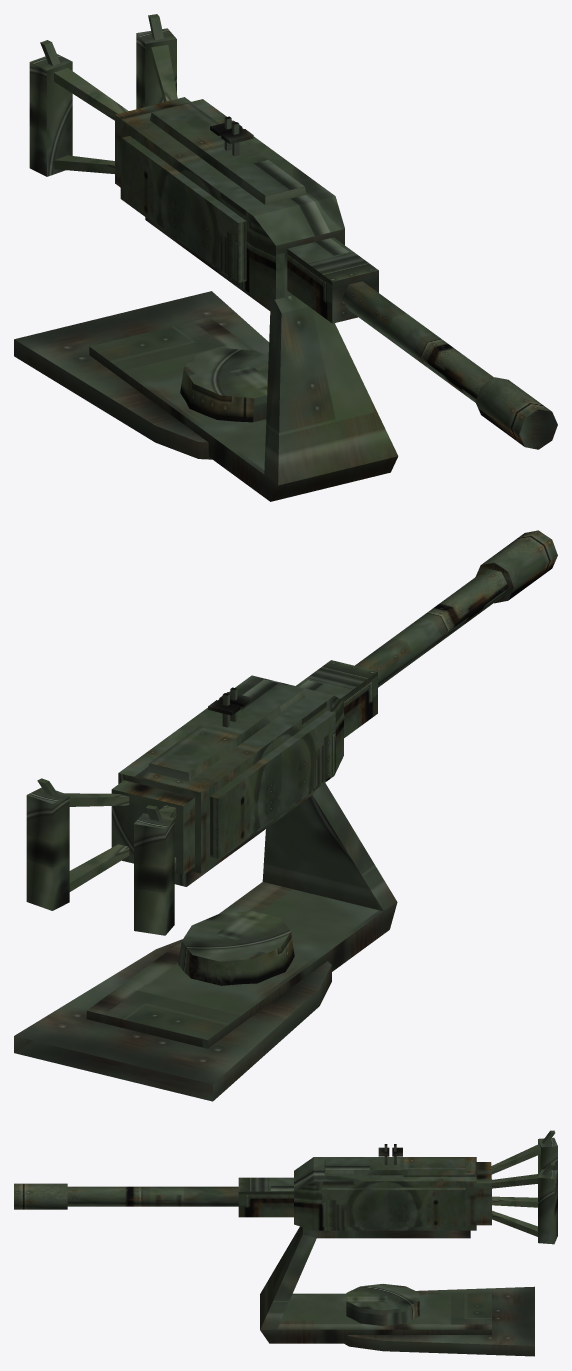
File: machine_gun.obj
3 views of the same model, one above another, from view 1: azimuth 30°, elevation 25°; view 2: azimuth 150°, elevation 25°; view 3: azimuth 270°, elevation 25° (orthographic). The views are drawn at different scales.
Visible parts, largest first — view 1: submesh0; view 2: submesh0; view 3: submesh0.
Part boxes in pixels (bbox=[...]): submesh0: bbox=[14, 14, 557, 501]; submesh0: bbox=[14, 530, 557, 1101]; submesh0: bbox=[14, 1130, 557, 1356].
Size of the model in its own units: 0.2137 by 0.3113 by 0.8286.
1 material, 1 textured.
